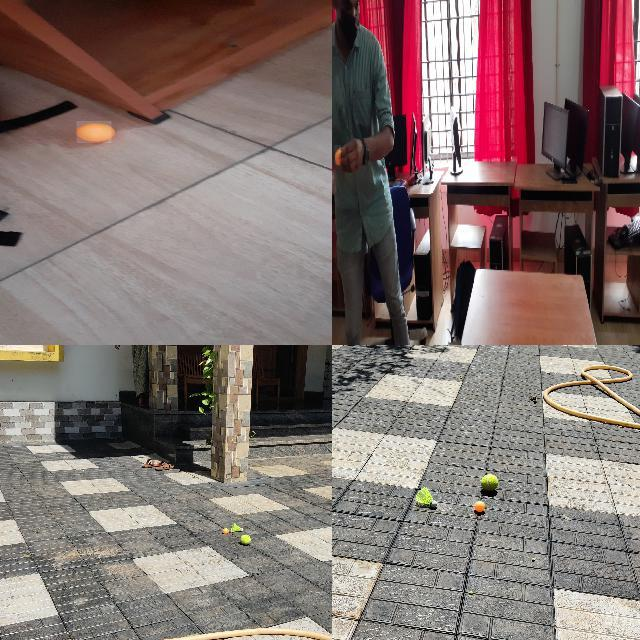ping-pong-ball: (76, 120, 112, 144), (334, 145, 342, 166), (473, 501, 485, 512), (222, 528, 228, 534)
